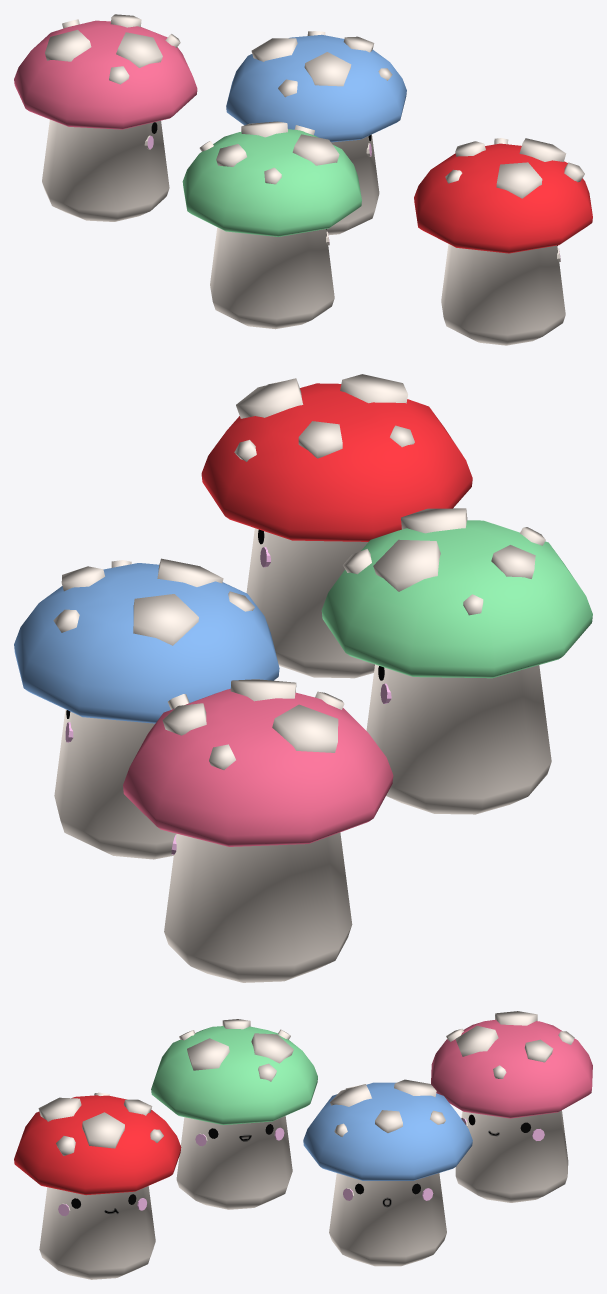
Rendered from cute_mushrooms_low_poly.glb.
3 renders of one model, top to bottom at view 1: azimuth 30°, elevation 25°; view 2: azimuth 150°, elevation 25°; view 3: azimuth 270°, elevation 25°, orthographic. The views are drawn at different scales.
Parts seen in each view (by area): view 1: Red Mushroom, Pink Mushroom, Green Mushroom, Blue Mushroom; view 2: Pink Mushroom, Green Mushroom, Red Mushroom, Blue Mushroom; view 3: Blue Mushroom, Green Mushroom, Red Mushroom, Pink Mushroom.
Boxes of the visible parts, left/top/right/bottom form: Red Mushroom: left=414, top=138, right=592, bottom=345; Pink Mushroom: left=14, top=14, right=197, bottom=221; Green Mushroom: left=182, top=121, right=361, bottom=329; Blue Mushroom: left=226, top=31, right=406, bottom=235; Pink Mushroom: left=123, top=679, right=393, bottom=982; Green Mushroom: left=321, top=508, right=592, bottom=814; Red Mushroom: left=201, top=374, right=472, bottom=678; Blue Mushroom: left=14, top=558, right=279, bottom=859; Blue Mushroom: left=303, top=1079, right=472, bottom=1266; Green Mushroom: left=151, top=1019, right=317, bottom=1209; Red Mushroom: left=14, top=1092, right=181, bottom=1279; Pink Mushroom: left=431, top=1011, right=592, bottom=1202.
Size of the model in its own units: 0.6371 by 0.3215 by 1.05.
4 materials, 4 textured.
